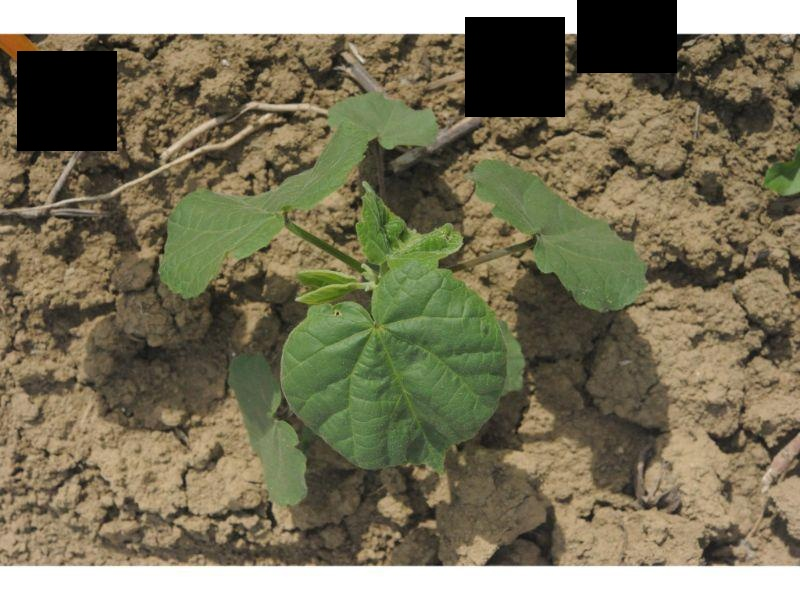velvet: (157, 91, 650, 505)
